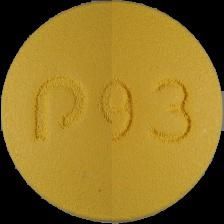68084-785: (0, 0, 224, 224)
